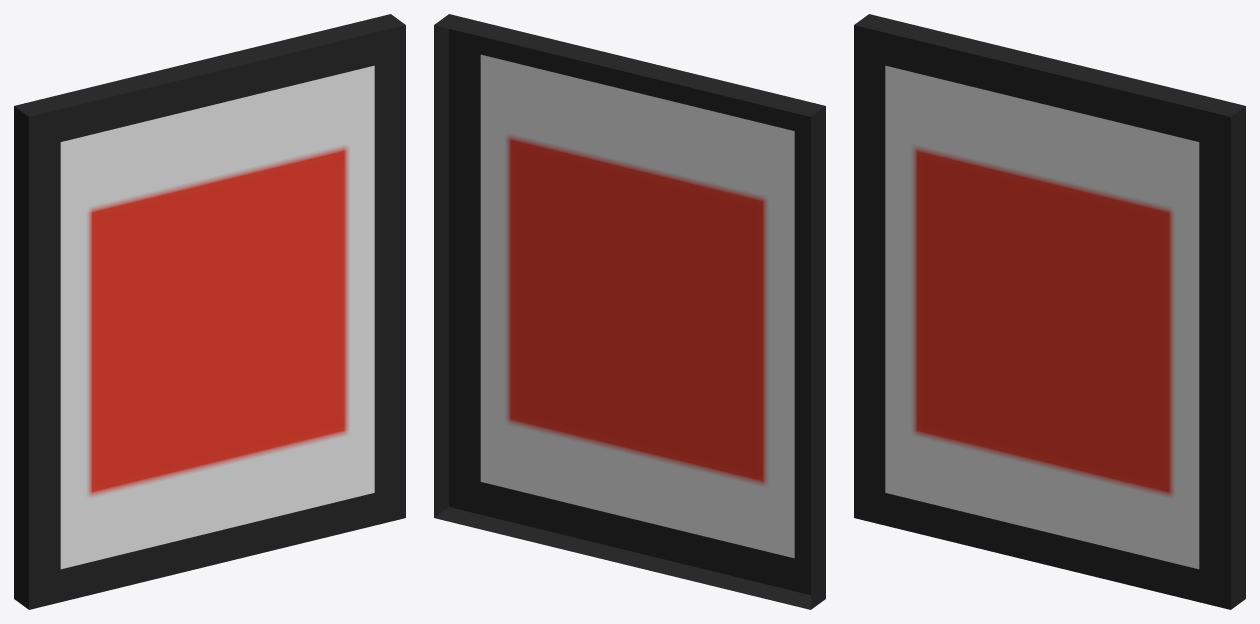
File: Paint_1.fbx
3 views of the same model, side by side, from view 1: azimuth 30°, elevation 25°; view 2: azimuth 150°, elevation 25°; view 3: azimuth 330°, elevation 25° (orthographic).
Parts seen in each view (by area): view 1: polySurface860; view 2: polySurface860; view 3: polySurface860.
Boxes of the visible parts, x1,y1,x2,y2 form: polySurface860: [14, 14, 405, 609]; polySurface860: [434, 14, 825, 609]; polySurface860: [854, 14, 1245, 609].
Size of the model in its own units: 1.08 by 1.35 by 0.075.
1 material, 1 textured.
